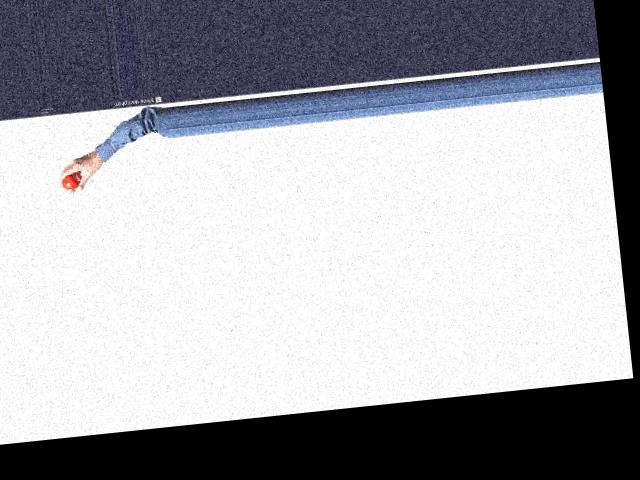tomato: (60, 174, 79, 190)
